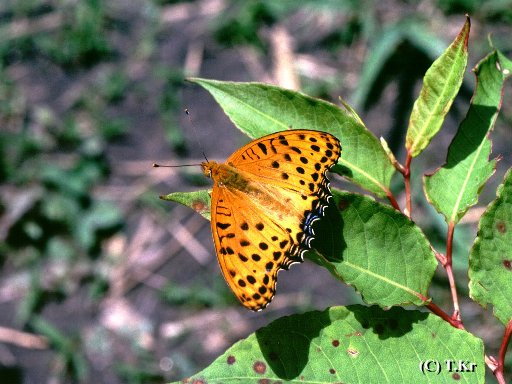Argyreus hyperbius: (147, 101, 342, 313)
butterfly: (149, 103, 344, 315)
